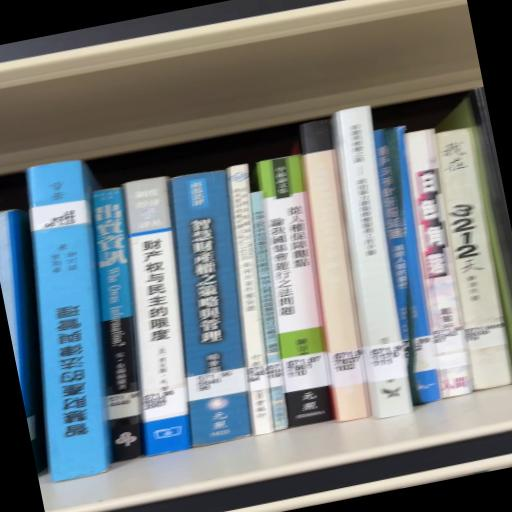reverse: (27, 161, 111, 482)
